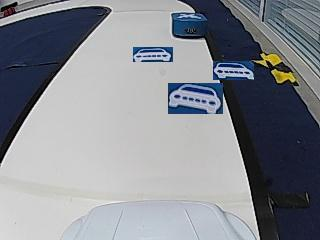prop: (172, 13, 209, 38)
